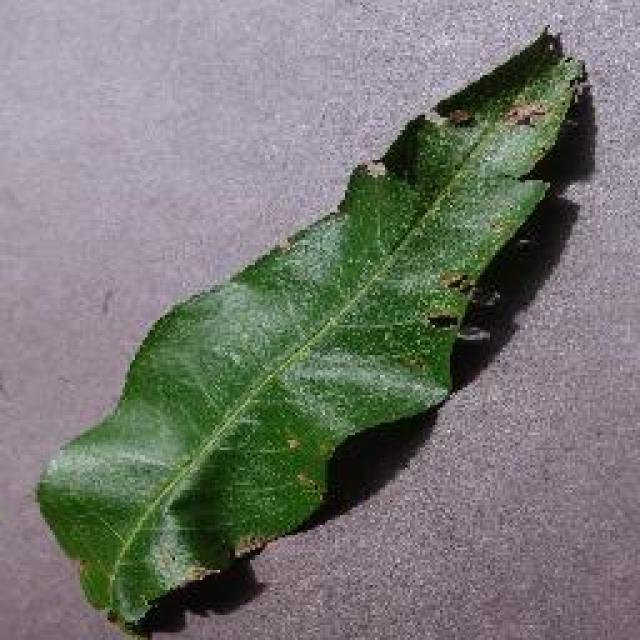Bacterial_spot: (511, 97, 564, 143)
